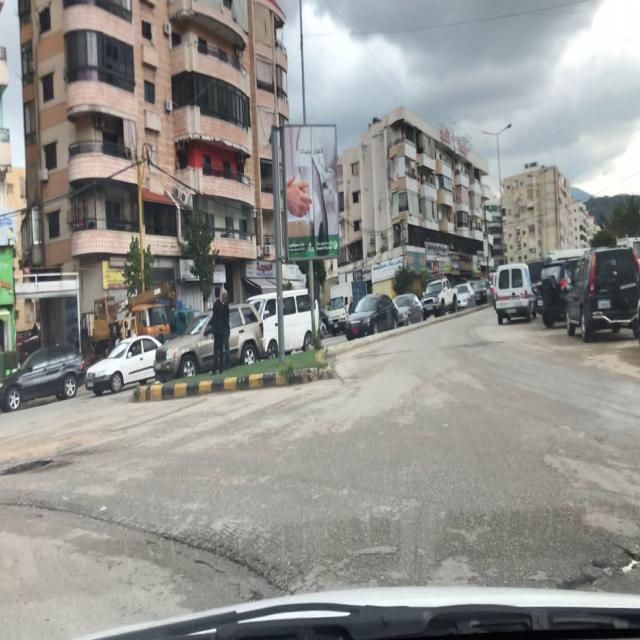pothole: (557, 548, 640, 590), (1, 452, 56, 484)
